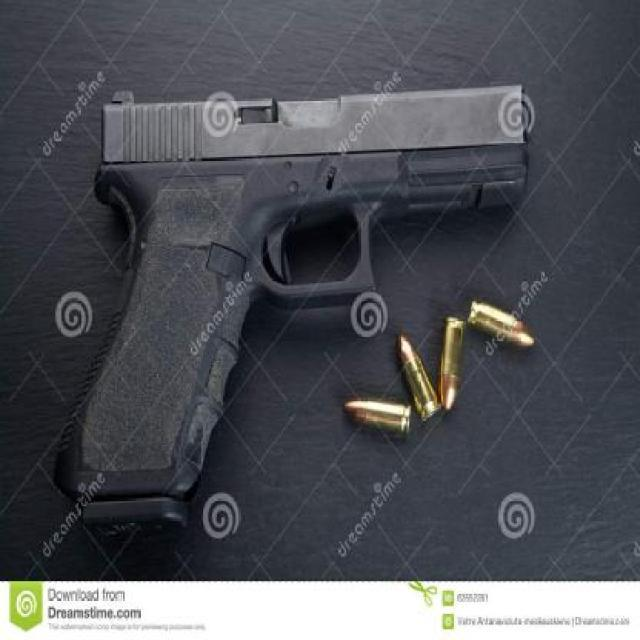gun: (54, 80, 526, 526)
